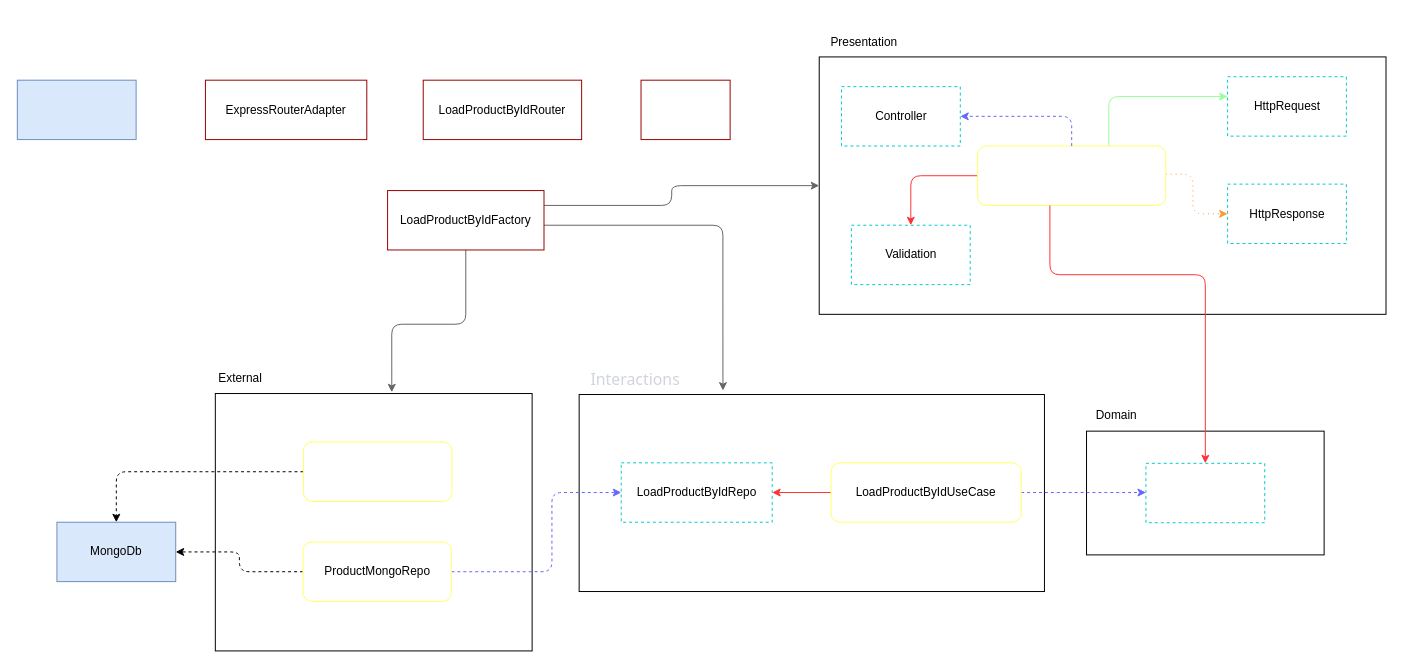
Some shapes in this 1404 by 668 pixel diagram are drawn without their labels. Here are the shapes that lost their labels. From the top down, the centre of each, then its label:
[76,109]: Express
[685,109]: App
[1071,175]: LoadProductByIdController
[377,471]: IdMongo
[1205,492]: LoadProductById
